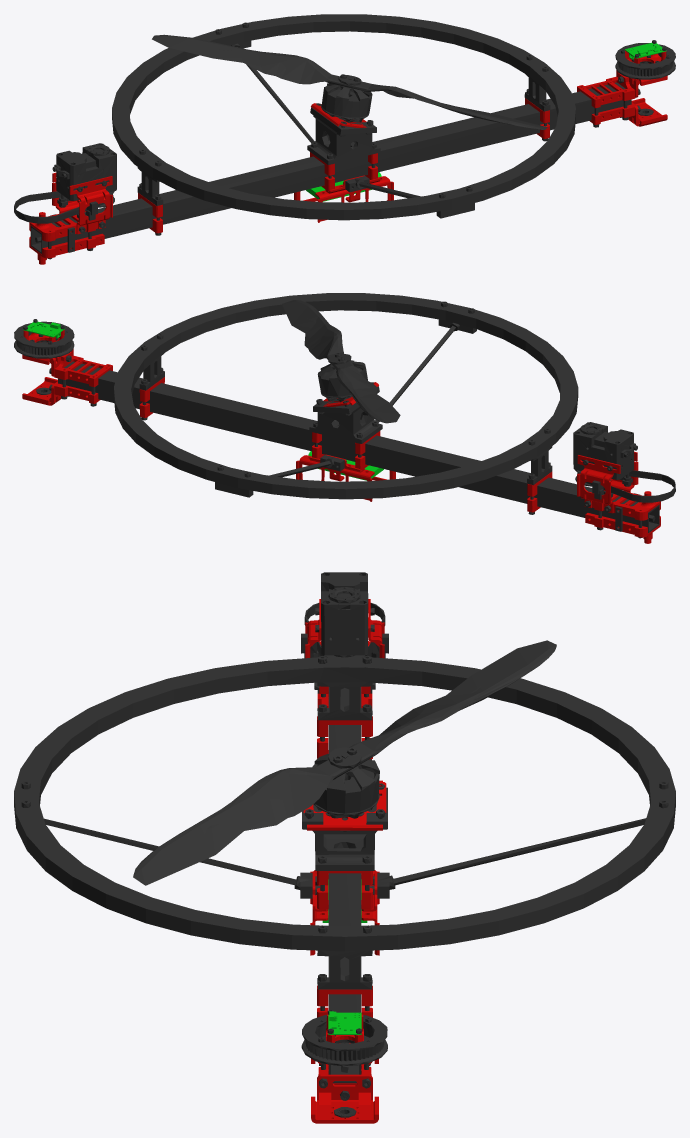
Rendered from tilt_10deg_link3.dae.
The picture shows the model from 3 angles, top to bottom: view 1: azimuth 30°, elevation 25°; view 2: azimuth 150°, elevation 25°; view 3: azimuth 270°, elevation 25°; orthographic projection. The views are drawn at different scales.
Parts seen in each view (by area): view 1: tilt_10deg_link3_black_part, tilt_link3_red_part, link3_green_part; view 2: tilt_10deg_link3_black_part, tilt_link3_red_part, link3_green_part; view 3: tilt_10deg_link3_black_part, tilt_link3_red_part, link3_green_part.
Part boxes in pixels (x1=…): tilt_10deg_link3_black_part: x1=14, y1=14, x2=675, y2=259; tilt_link3_red_part: x1=29, y1=50, x2=667, y2=264; link3_green_part: x1=306, y1=42, x2=666, y2=201; tilt_10deg_link3_black_part: x1=14, y1=293, x2=675, y2=538; tilt_link3_red_part: x1=22, y1=330, x2=660, y2=543; link3_green_part: x1=23, y1=321, x2=383, y2=480; tilt_10deg_link3_black_part: x1=14, y1=572, x2=675, y2=1117; tilt_link3_red_part: x1=303, y1=599, x2=386, y2=1123; link3_green_part: x1=322, y1=879, x2=367, y2=1034.
Bounding box in the file's own units: 0.6504 × 0.3997 × 0.1362.
